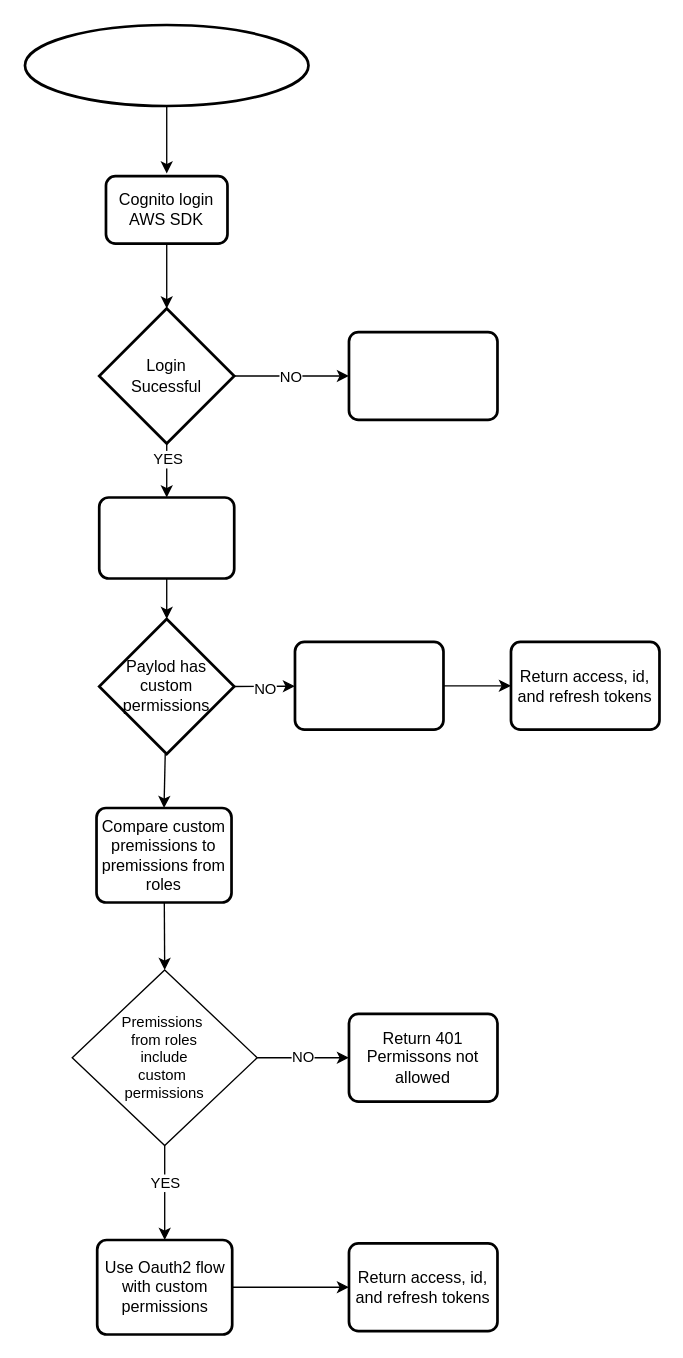
Image size: 683x1358. Some labels were removed from this diagram. The shapes that lost their labels are listed below. From the top down, each one's centre as x and y in pixels, then its label:
[166,65]: POST /authentication/token
[422,375]: Return 401 Credentials don't match
[166,537]: Get permissions from user roles
[368,685]: Use Oauth2 flow with permissions from roles
